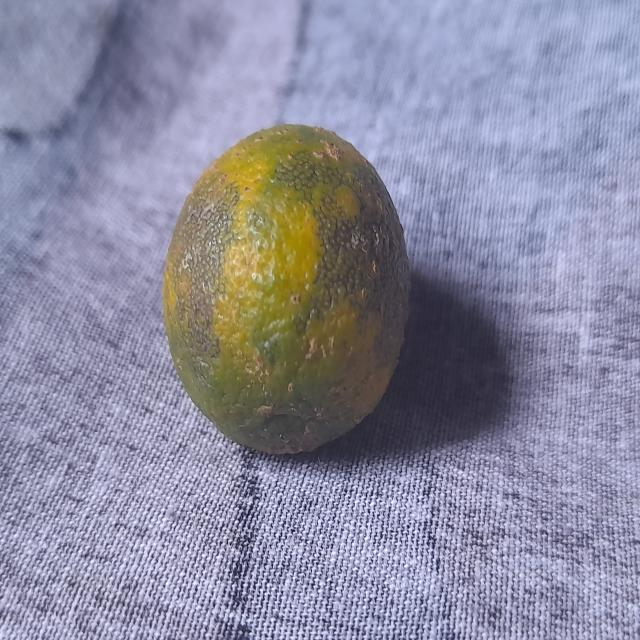black spot: (172, 130, 410, 471)
